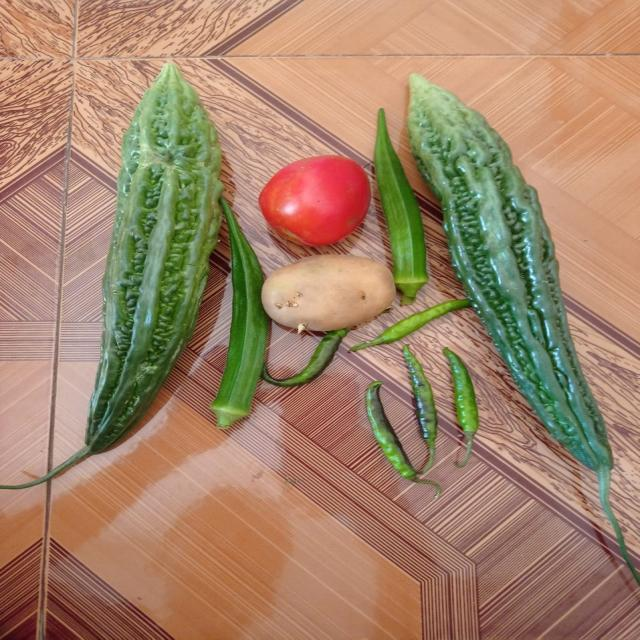Organik: (423, 98, 610, 464), (74, 63, 237, 455), (262, 253, 393, 334), (260, 152, 371, 246), (212, 255, 267, 426), (445, 352, 480, 469), (400, 356, 443, 446)
